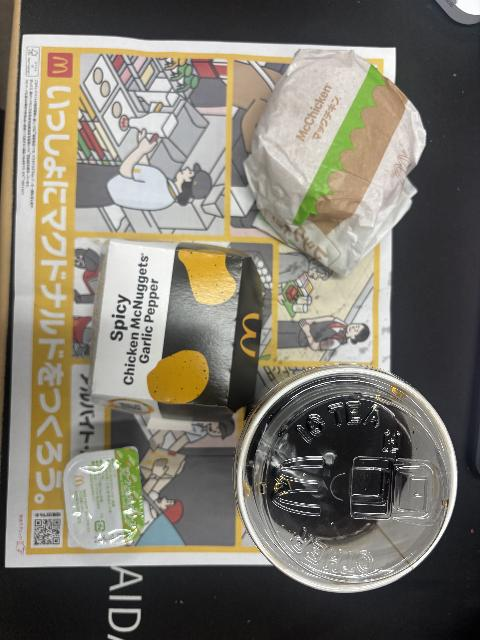burger: (243, 48, 426, 279)
drink: (233, 363, 459, 594)
nuggets: (86, 238, 262, 432)
sauce: (64, 446, 145, 549)
